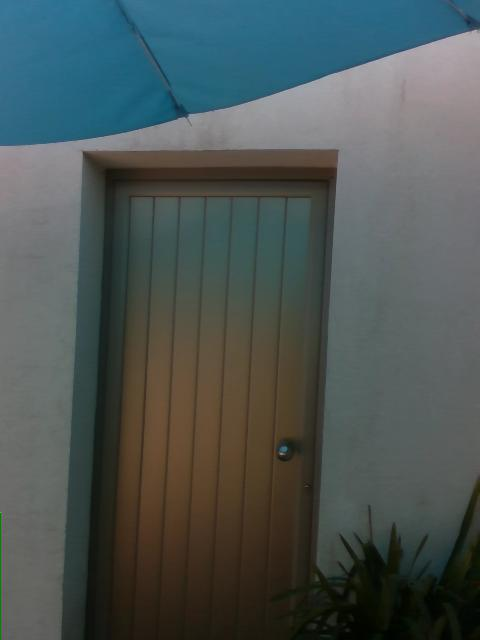door: (63, 150, 340, 638)
